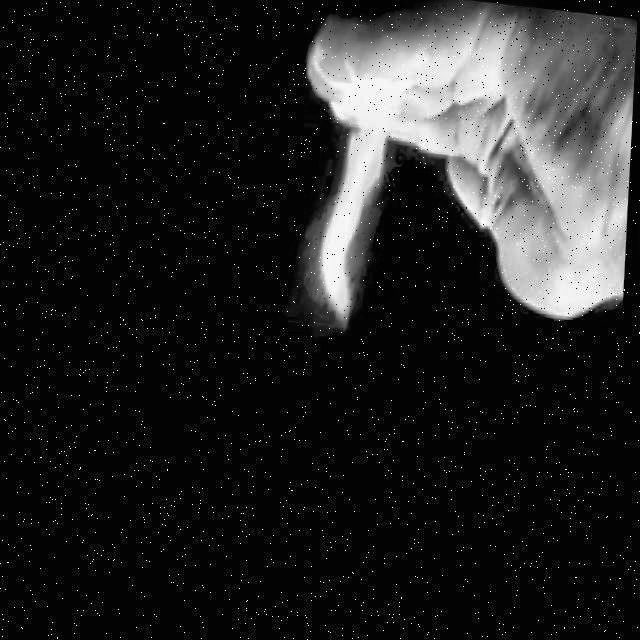Fire: (303, 83, 407, 336)
